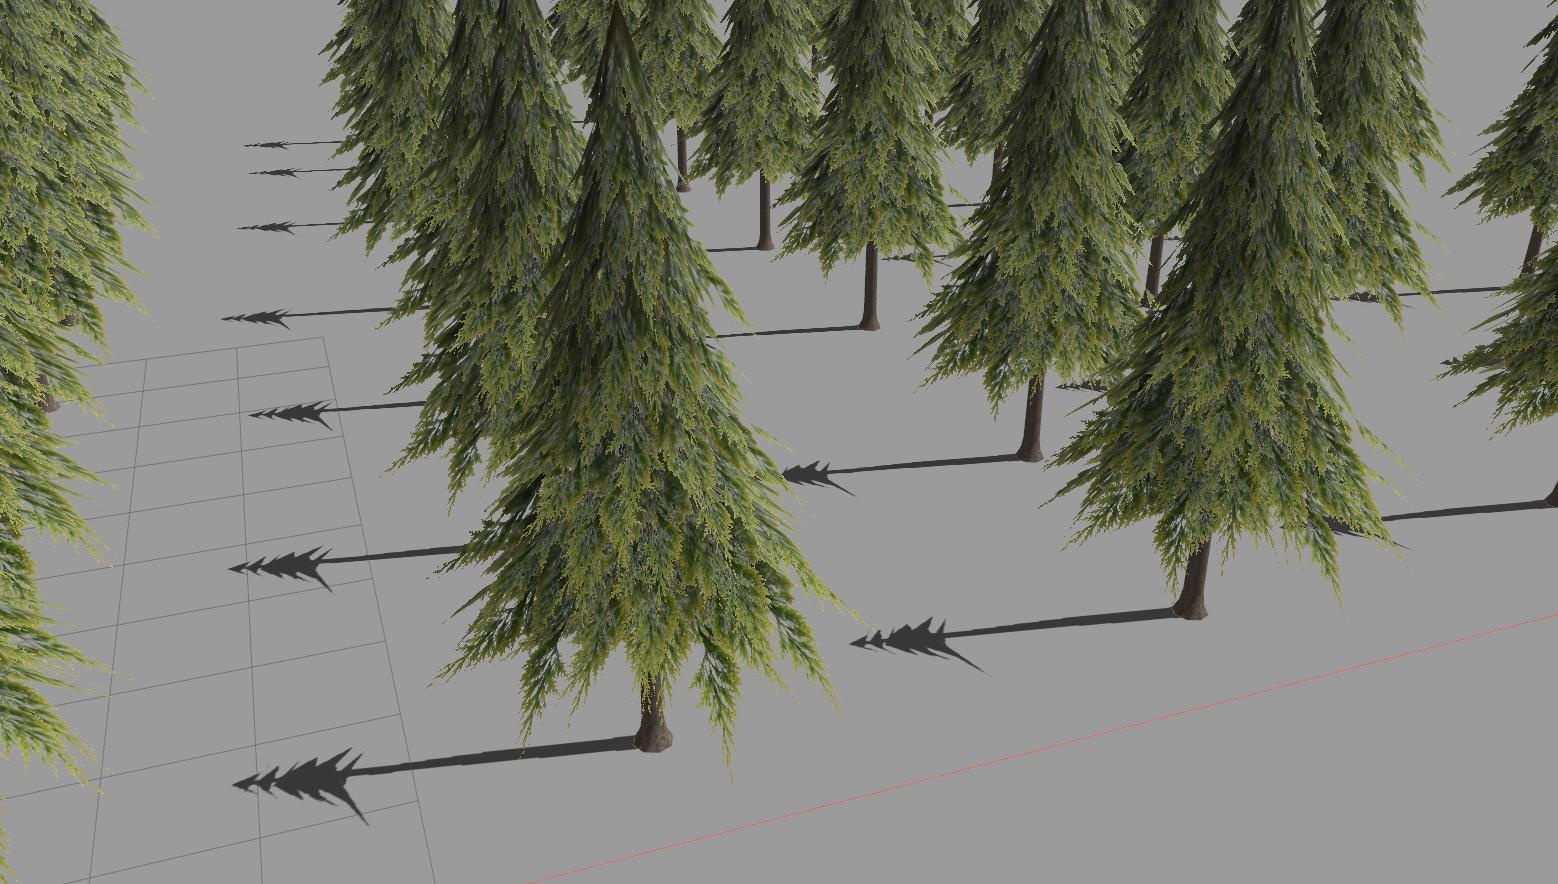tree_gazebo: (1056, 0, 1391, 613), (922, 0, 1139, 458), (782, 0, 962, 332), (693, 0, 819, 248)
